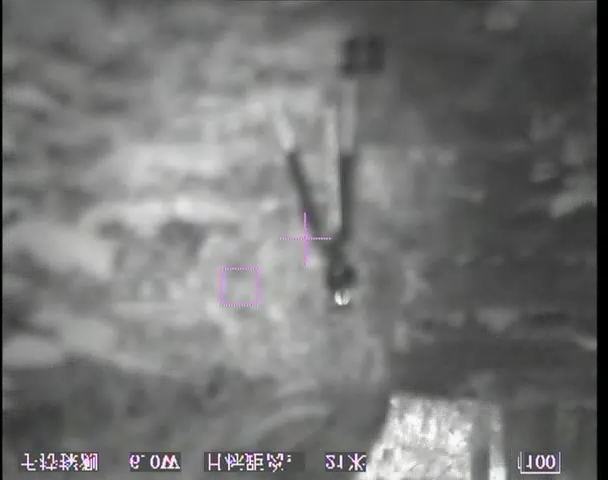my: (332, 286, 352, 306)
